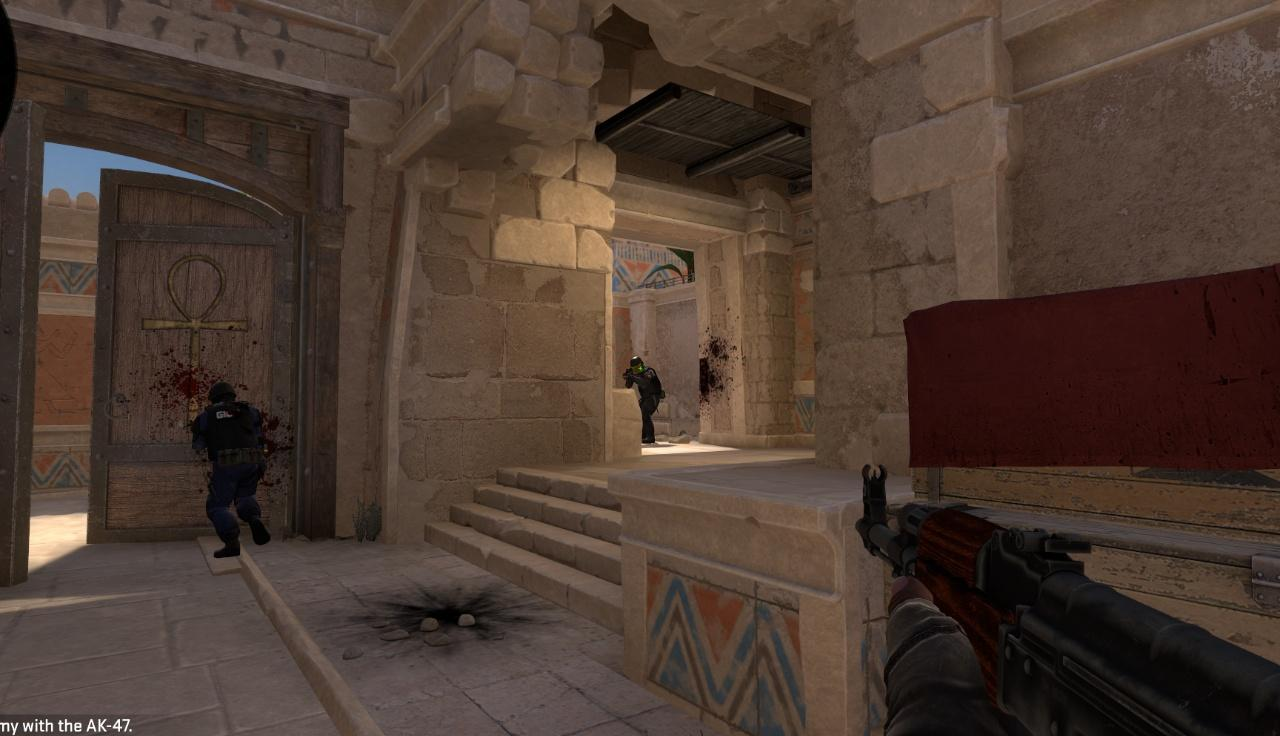ct: (205, 383, 265, 554), (628, 357, 660, 443)
cthead: (207, 384, 235, 404), (630, 357, 644, 373)
rifle: (848, 464, 1280, 736)
